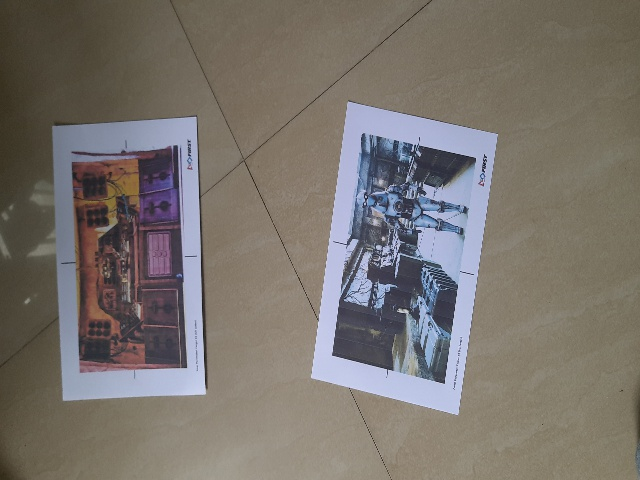fpt1: (315, 94, 485, 417)
rept1: (58, 124, 198, 402)
